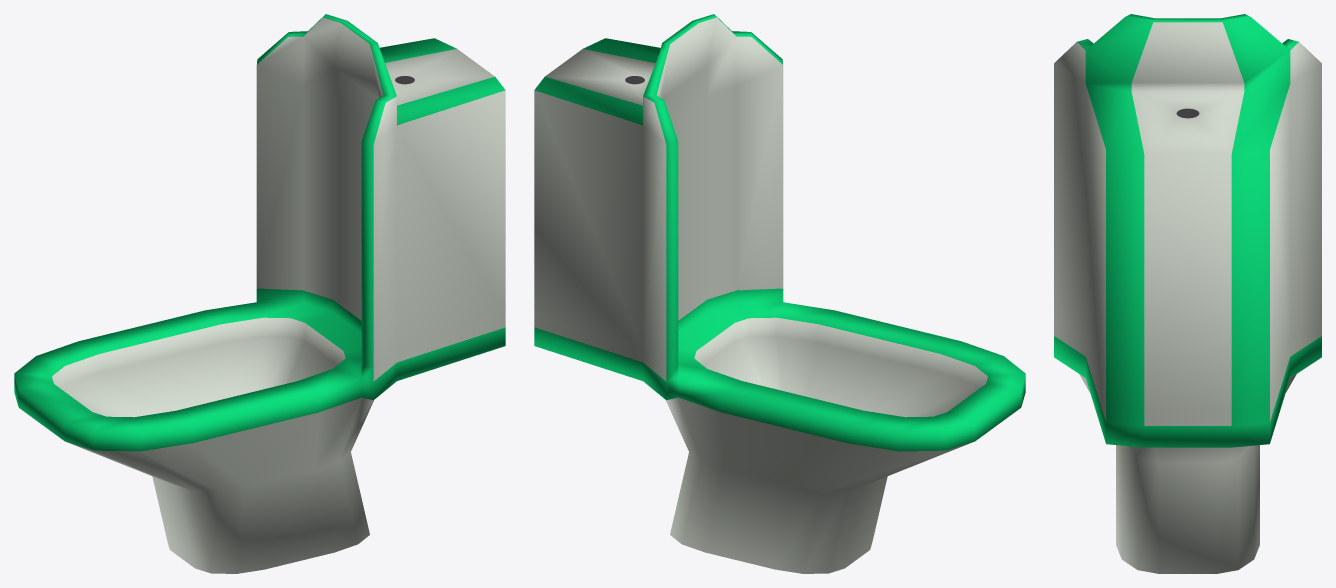
The model's file is vater.fbx.
3 renders of one model, left to right at view 1: azimuth 30°, elevation 25°; view 2: azimuth 150°, elevation 25°; view 3: azimuth 270°, elevation 25°, orthographic. The views are drawn at different scales.
Parts seen in each view (by area): view 1: Plane; view 2: Plane; view 3: Plane.
Part boxes in pixels (<box>): Plane: <box>14,14,505,573</box>; Plane: <box>534,14,1025,573</box>; Plane: <box>1054,14,1321,573</box>.
Size of the model in its own units: 422 by 449 by 196.
